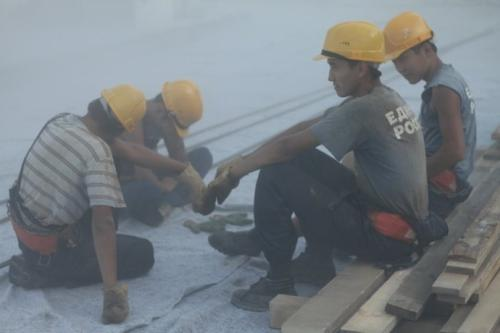boots: (231, 276, 297, 312), (208, 227, 262, 256), (290, 251, 336, 284)
gloves: (176, 163, 216, 215), (208, 165, 240, 203), (101, 282, 130, 323), (175, 162, 206, 200)
hard-hat: (314, 20, 385, 62), (382, 10, 433, 60), (101, 83, 146, 133), (161, 79, 203, 132)
person: (208, 19, 437, 311), (6, 83, 156, 333), (382, 10, 478, 218), (109, 78, 217, 226)
